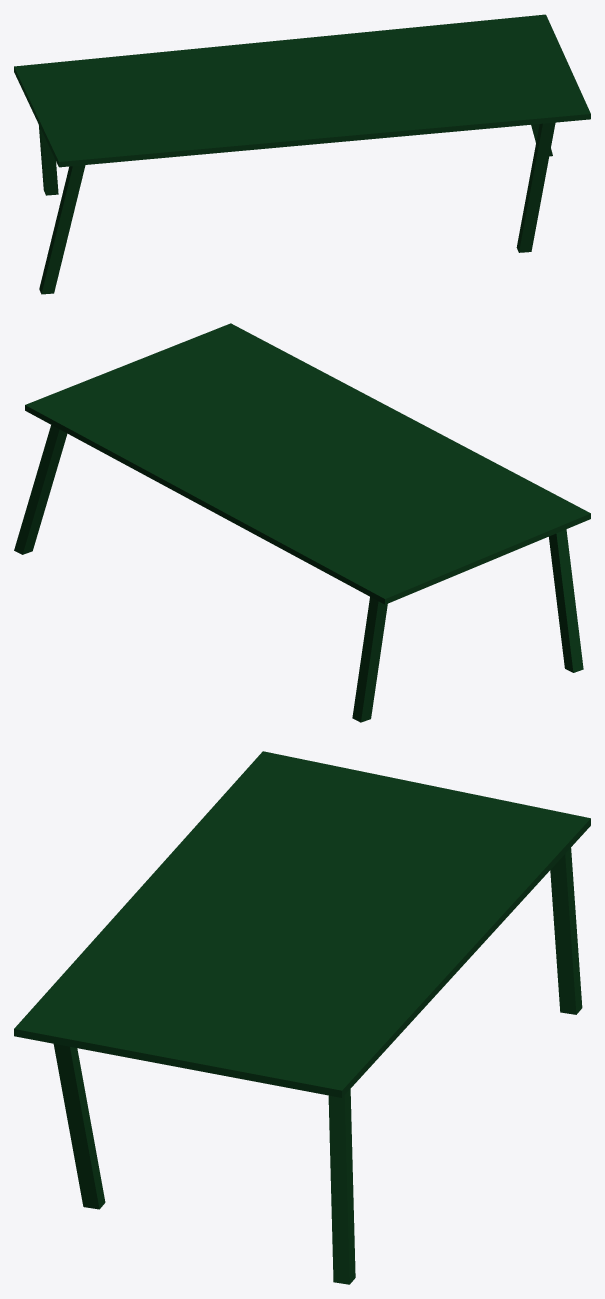
Rendered from Table Cabane Low.FBX.
3 renders of one model, top to bottom at view 1: azimuth 30°, elevation 25°; view 2: azimuth 150°, elevation 25°; view 3: azimuth 270°, elevation 25°, orthographic. The views are drawn at different scales.
Parts seen in each view (by area): view 1: Box103; view 2: Box103; view 3: Box103.
Part boxes in pixels (left/top/right/bottom): Box103: left=14, top=14, right=590, bottom=294; Box103: left=14, top=323, right=590, bottom=722; Box103: left=14, top=751, right=590, bottom=1284.
Size of the model in its own units: 239 by 64.04 by 167.
